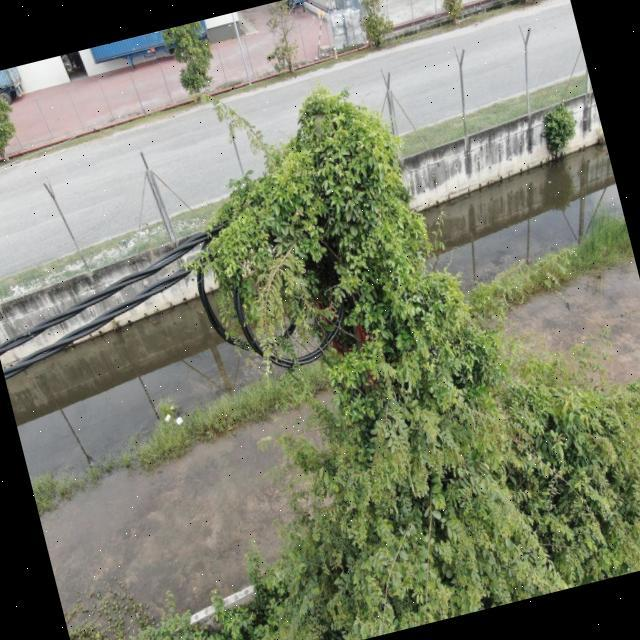critical vegetation: (143, 70, 510, 572)
